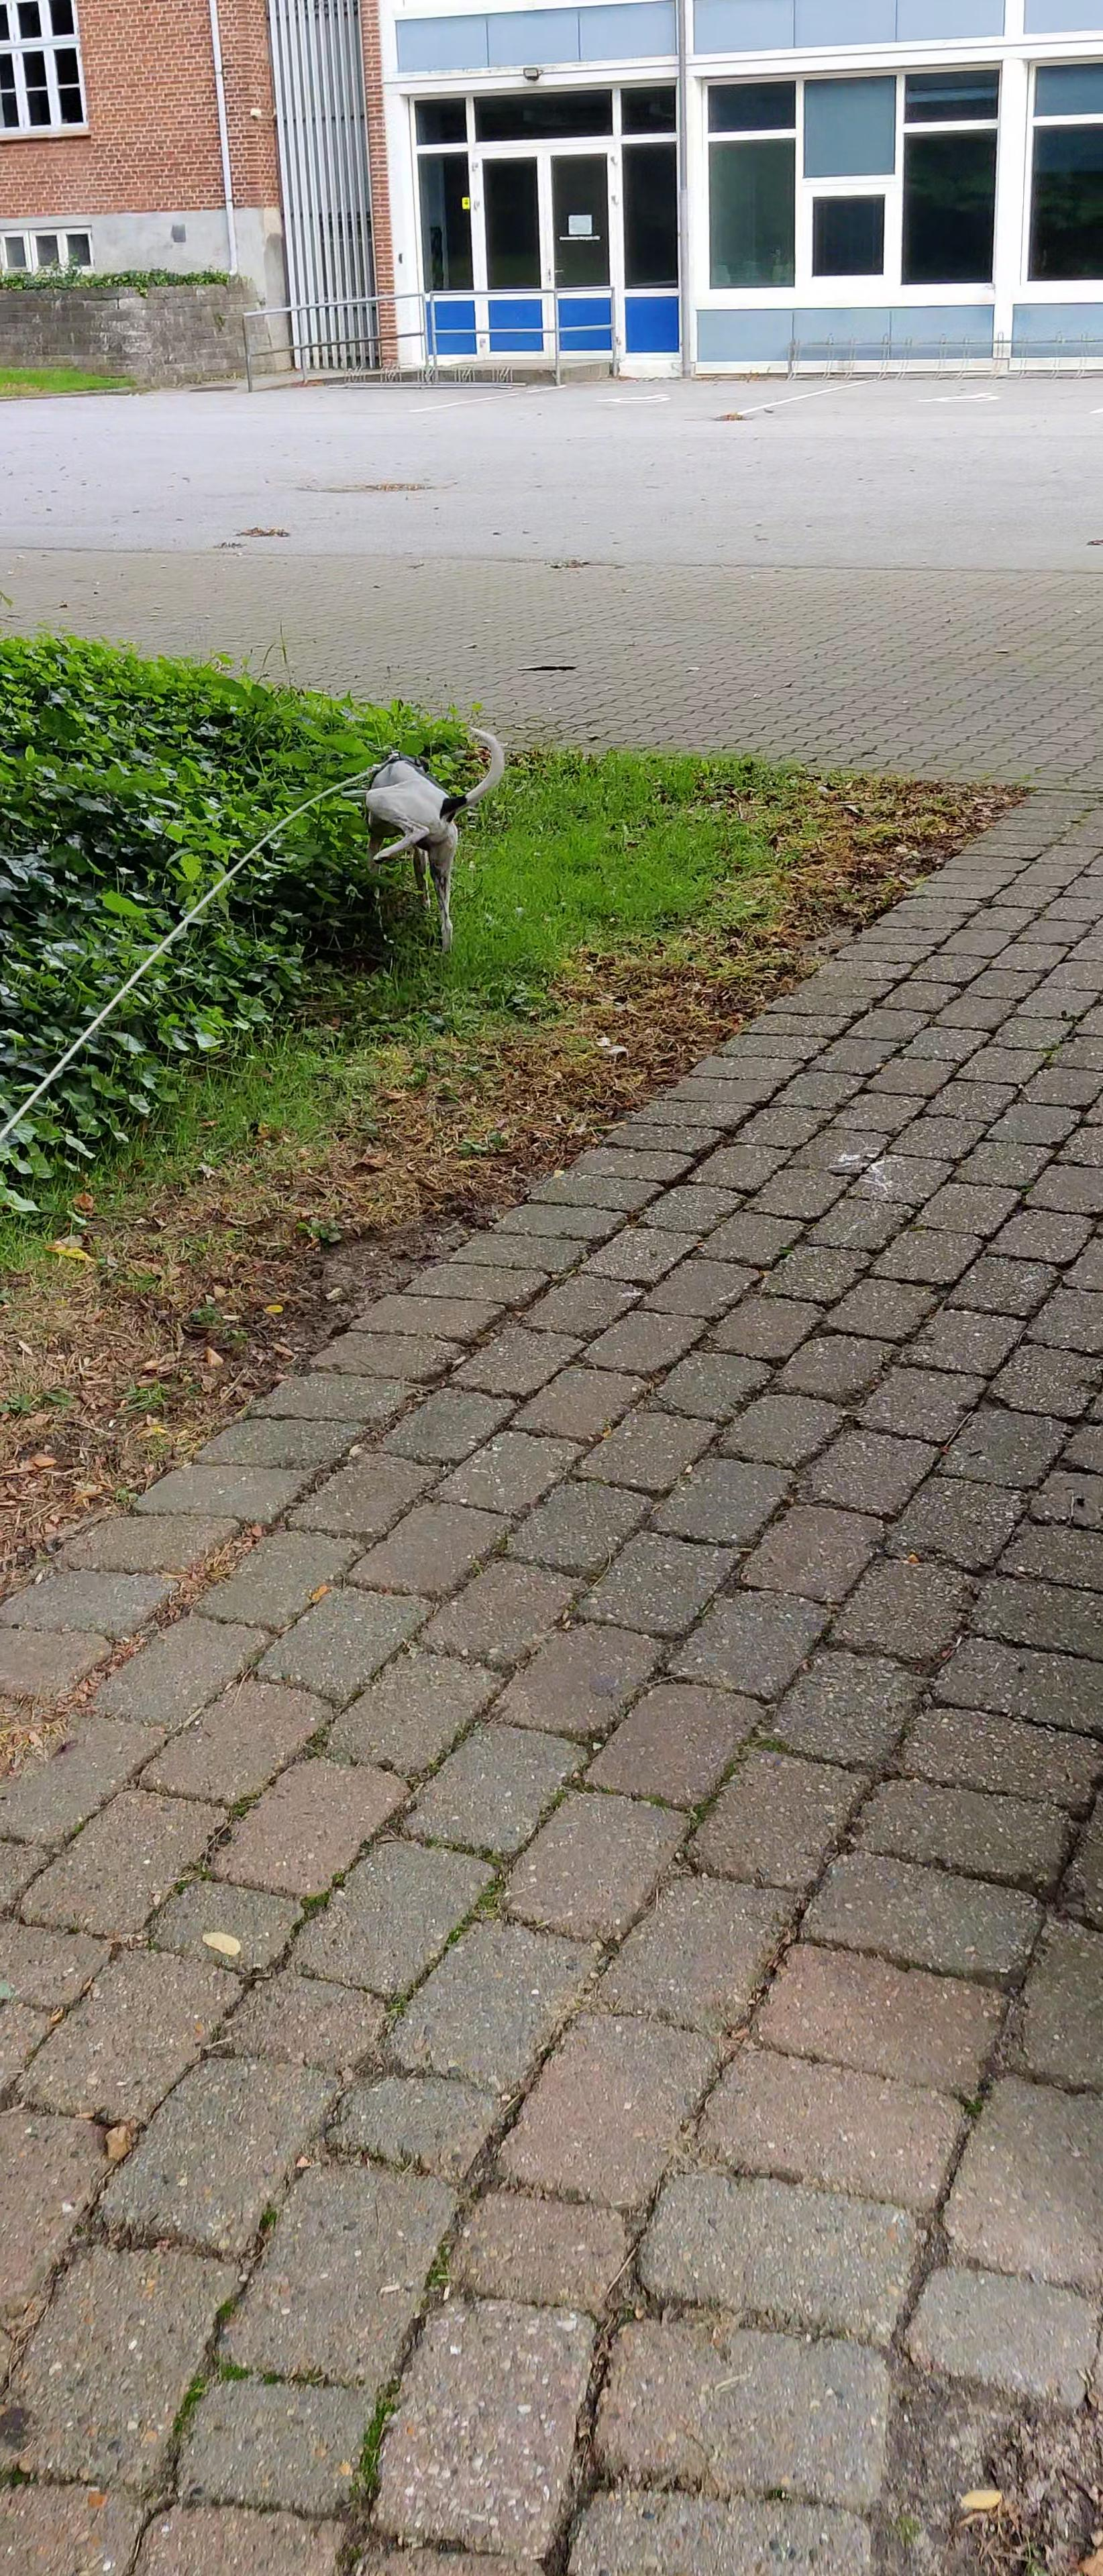Dog: (355, 706, 515, 954)
